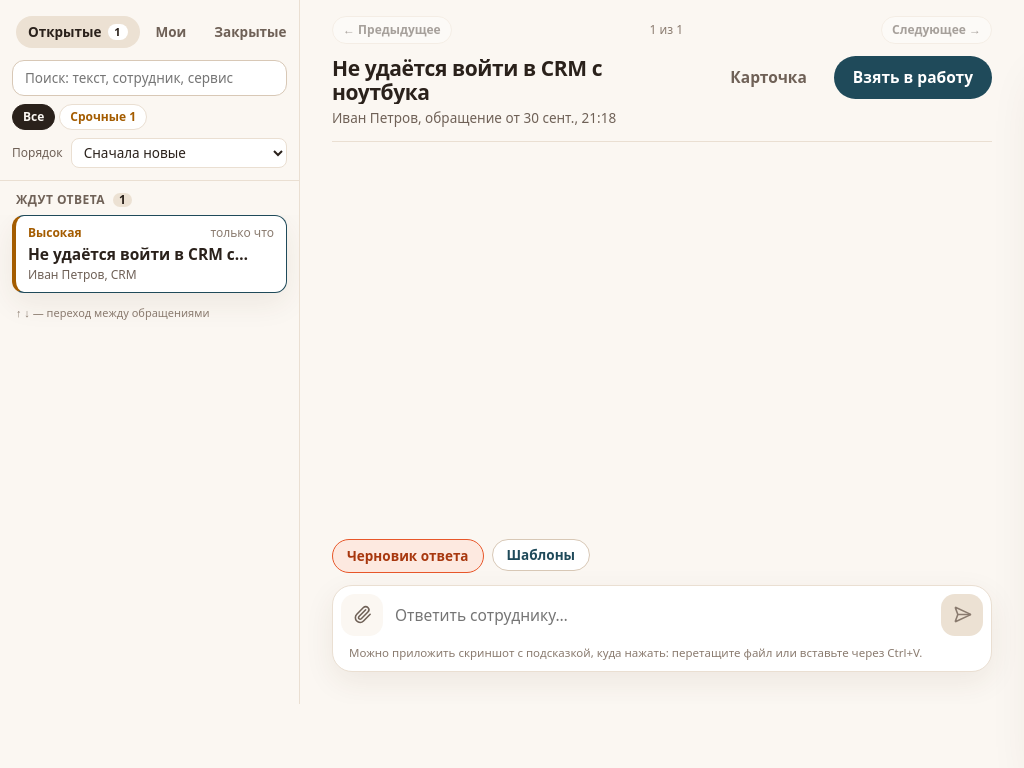
Test: OperatorPage › takes a ticket and answers the employee in the same thread
Click the button "Взять в работу": [913, 78] box [834, 56, 992, 99]
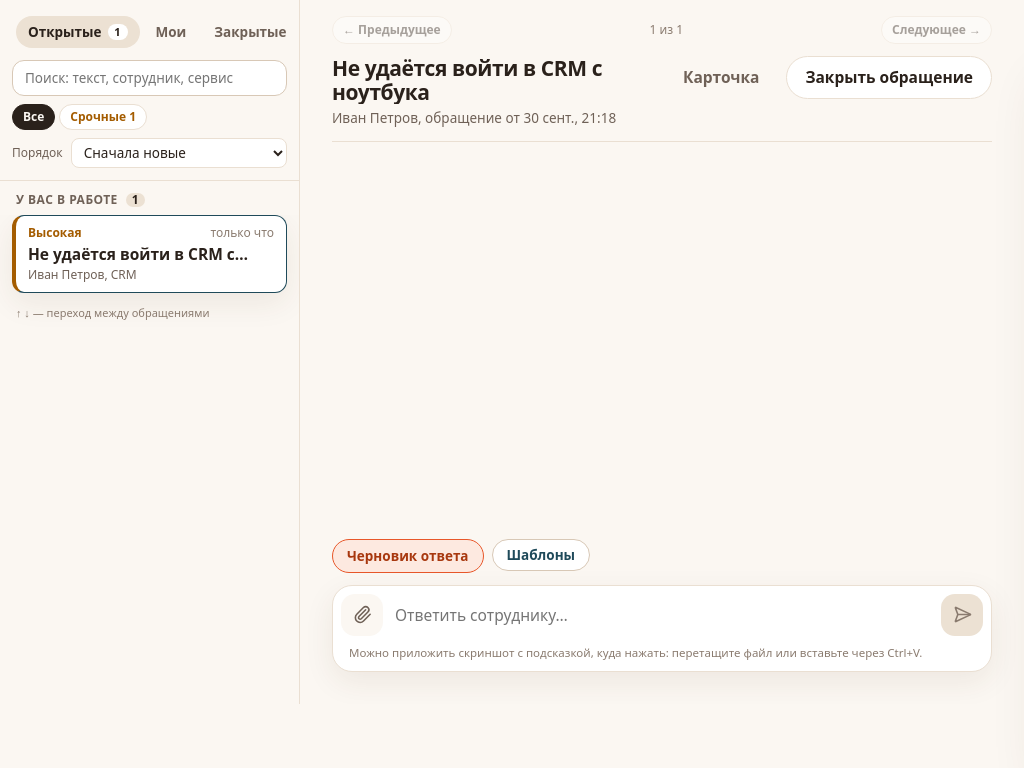
In the text box named "Ответ сотруднику": [662, 615] box [391, 594, 933, 636], type "Сбросила сессию"
Then press Enter
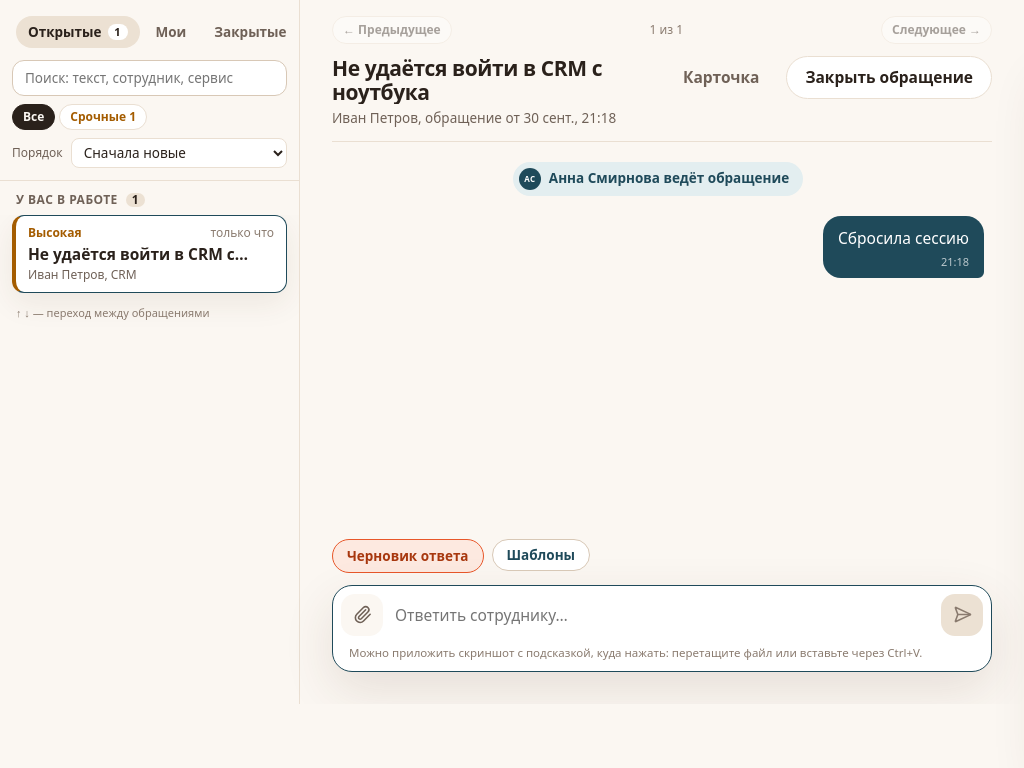
Check: the button "Закрыть обращение" is shown, box [786, 56, 992, 99]
Check: the text "Сбросила сессию" is shown, box [838, 226, 969, 250]
